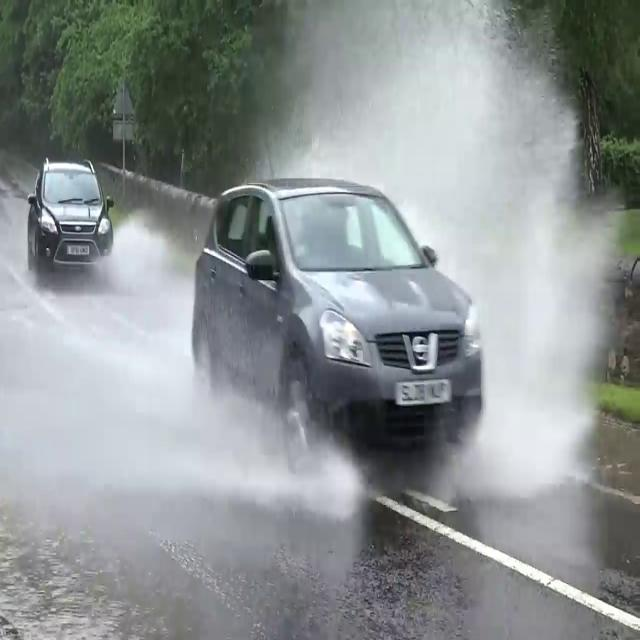license-plate-annotation: (396, 383, 450, 404)
